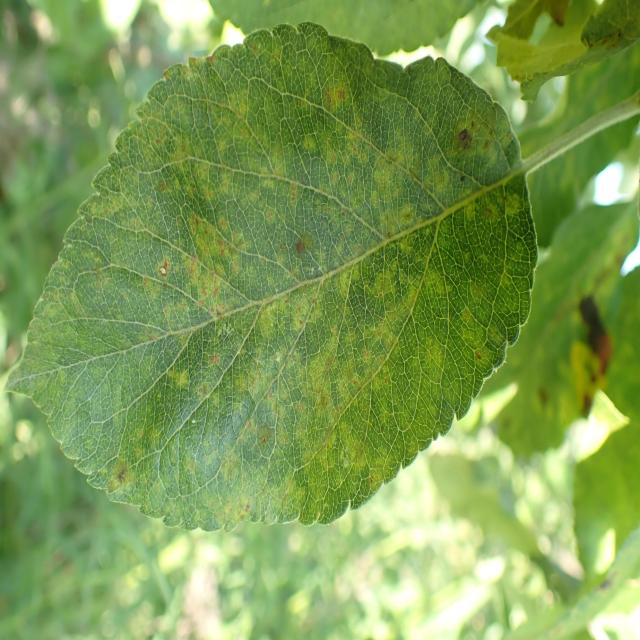scab: (35, 41, 527, 536)
